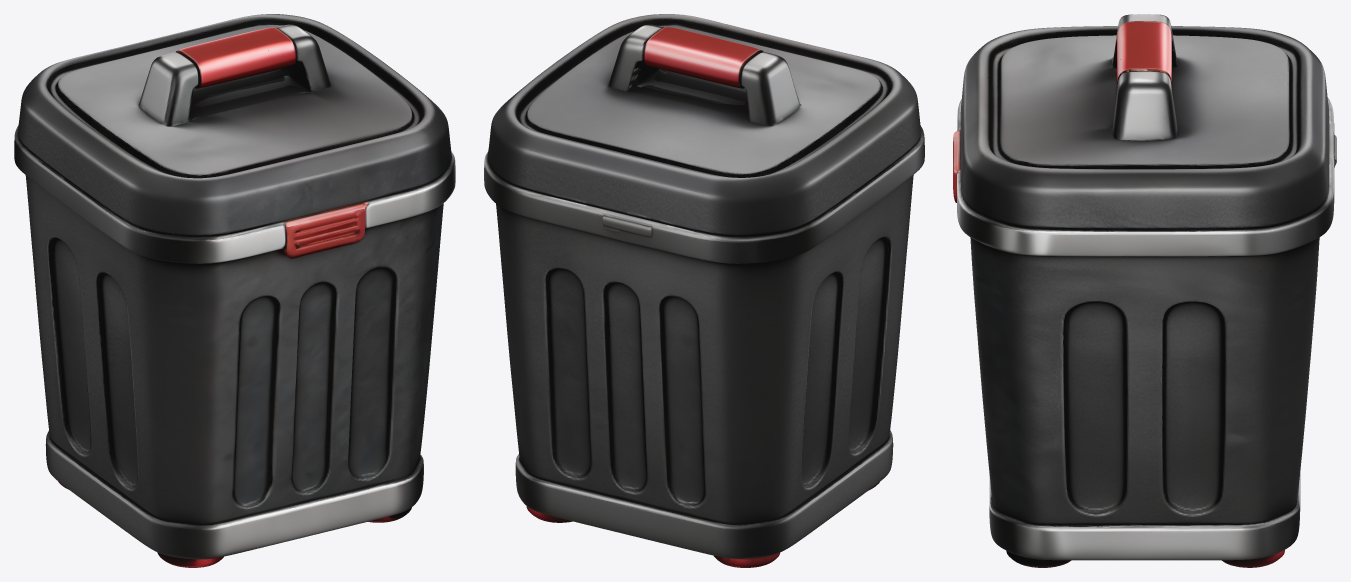
Rendered from base_basic_shaded.glb.
The picture shows the model from 3 angles, left to right: view 1: azimuth 30°, elevation 25°; view 2: azimuth 150°, elevation 25°; view 3: azimuth 270°, elevation 25°; orthographic projection. The views are drawn at different scales.
Parts seen in each view (by area): view 1: model; view 2: model; view 3: model.
Part boxes in pixels (x1,y1,x2,y2): model: (14,14,455,567); model: (484,14,924,567); model: (953,14,1336,567).
Size of the model in its own units: 1.43 by 1.9 by 1.42.
Materials: 1 (1 with a texture image).
